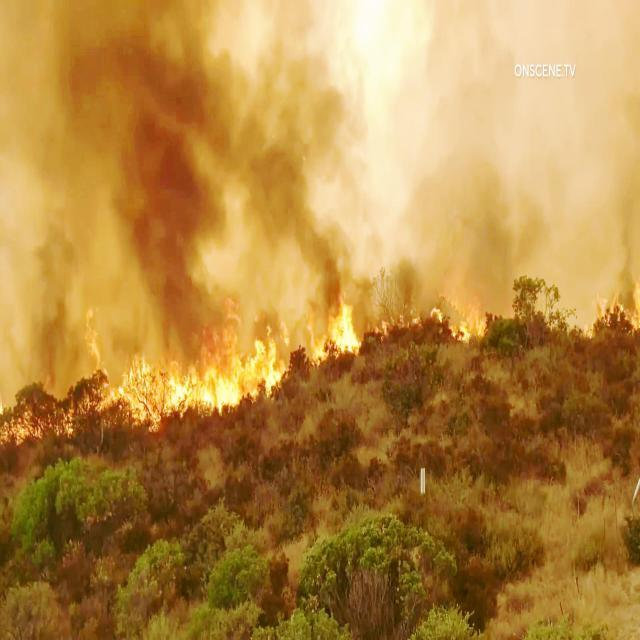Fire: (92, 307, 283, 435)
Smoke: (58, 37, 402, 284)
